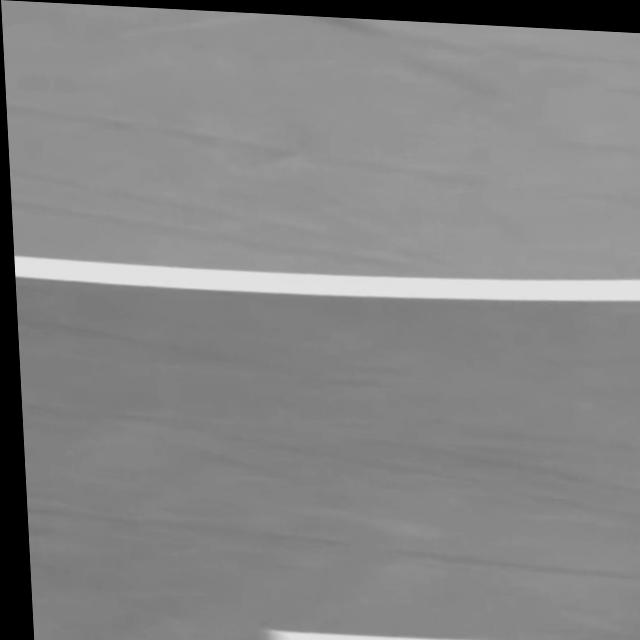left: (13, 256, 640, 301)
